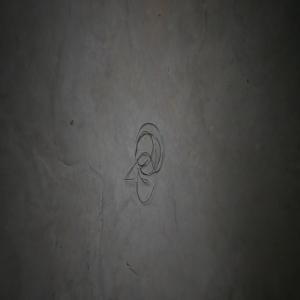Wire: (124, 122, 163, 202)
